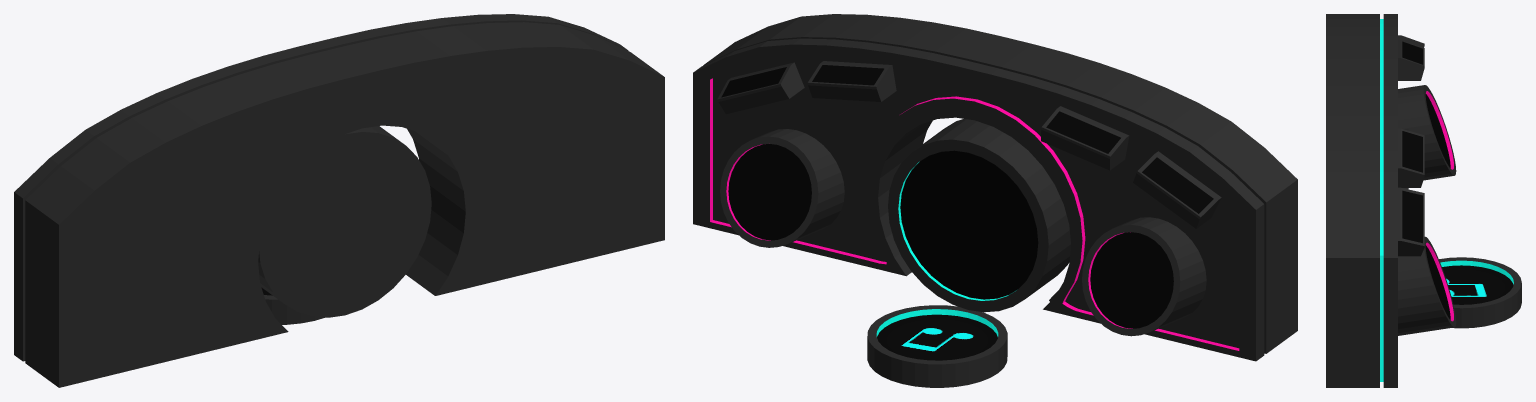
The model's file is stage.gltf.
The picture shows the model from 3 angles, left to right: view 1: azimuth 30°, elevation 25°; view 2: azimuth 150°, elevation 25°; view 3: azimuth 270°, elevation 25°; orthographic projection. The views are drawn at different scales.
Visible parts, largest first — view 1: Cube.003; view 2: Cube.003; view 3: Cube.003.
Part boxes in pixels (x1=…): Cube.003: x1=14, y1=14, x2=664, y2=387; Cube.003: x1=693, y1=14, x2=1297, y2=387; Cube.003: x1=1326, y1=14, x2=1521, y2=387.
Size of the model in its own units: 14 by 6.19 by 4.91.
Materials: 5 (2 with a texture image).
